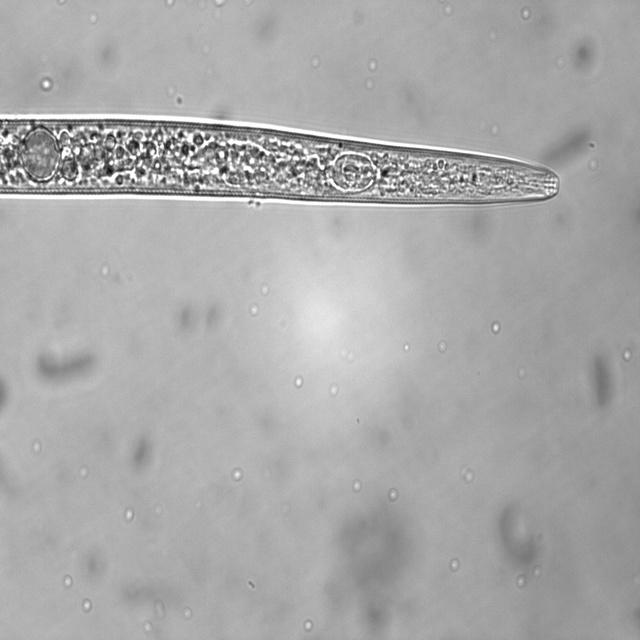Meloidogyne: (0, 120, 568, 206)
